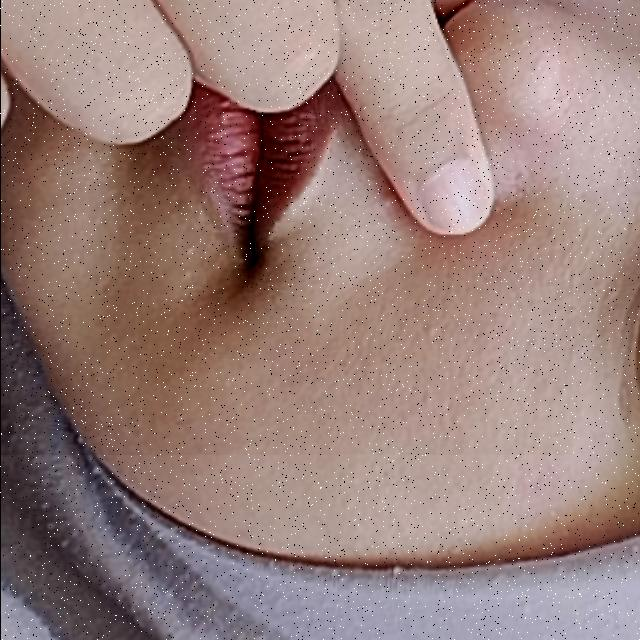bau: (0, 0, 572, 455)
